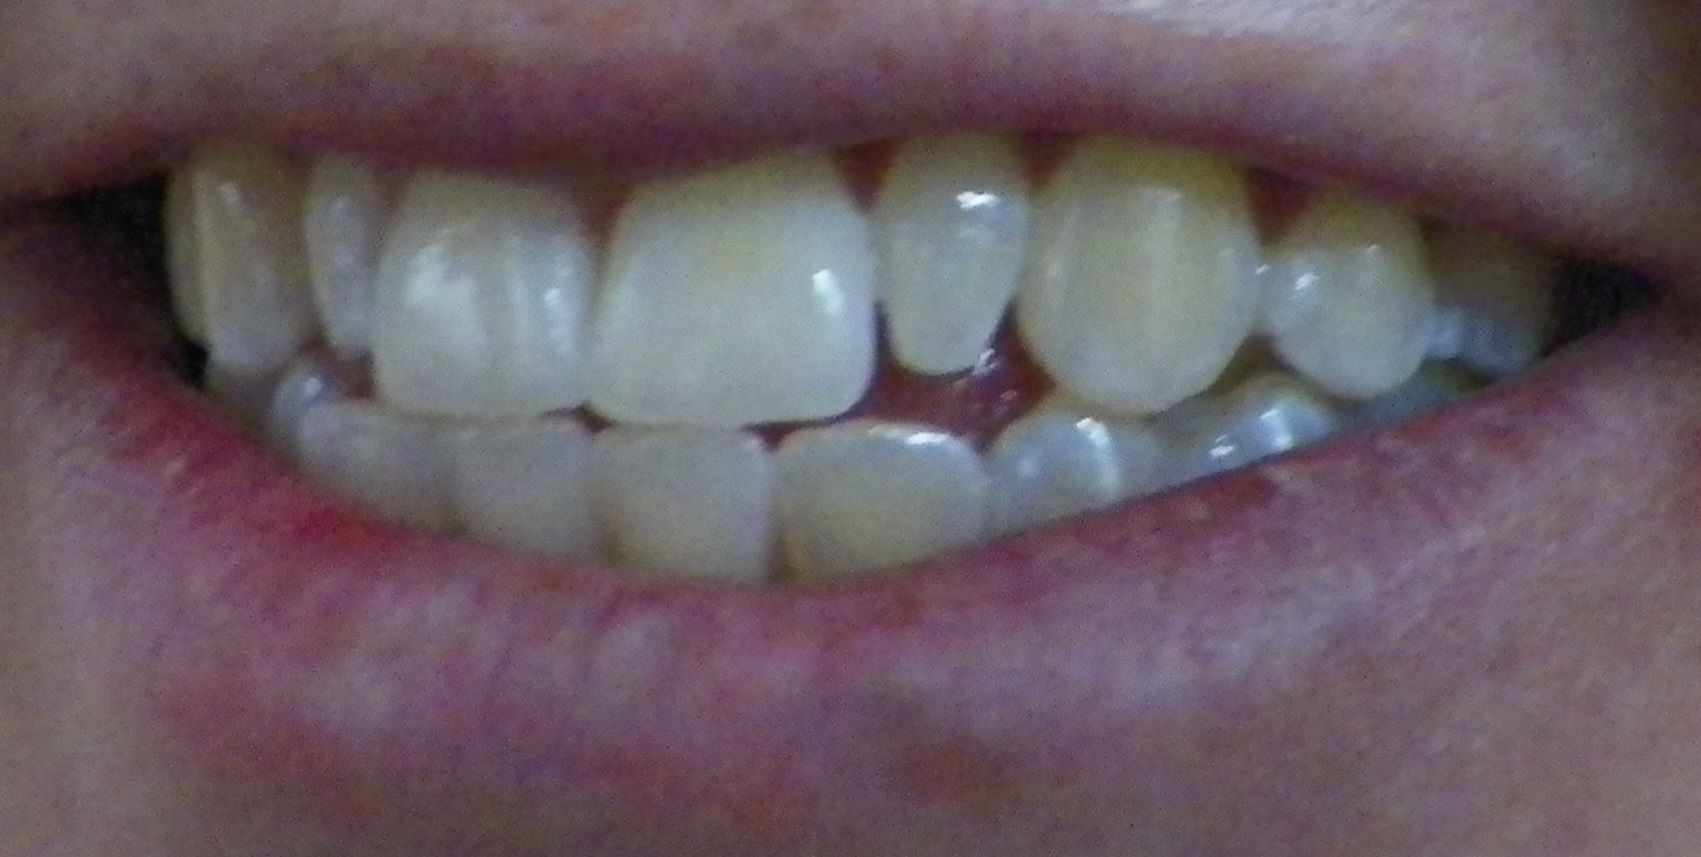boca: (130, 130, 1497, 590)
